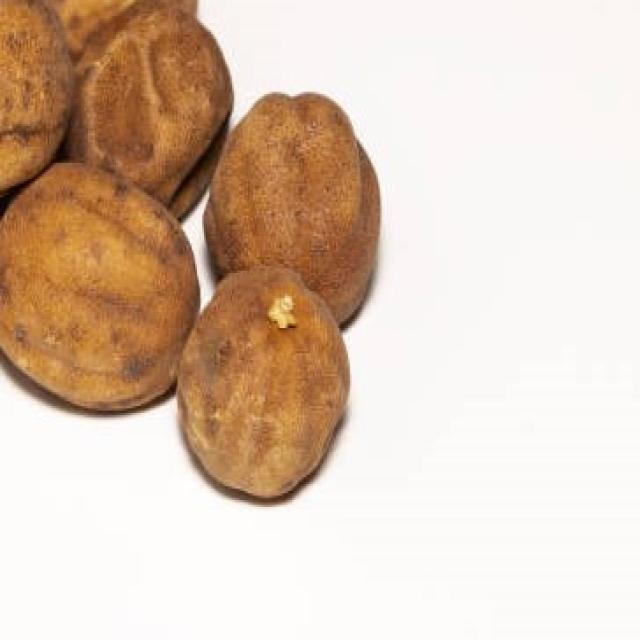overripe: (0, 160, 197, 420), (177, 263, 356, 503), (200, 83, 382, 280), (74, 0, 236, 184), (0, 0, 76, 164)
